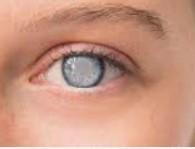eye: (61, 53, 105, 89)
